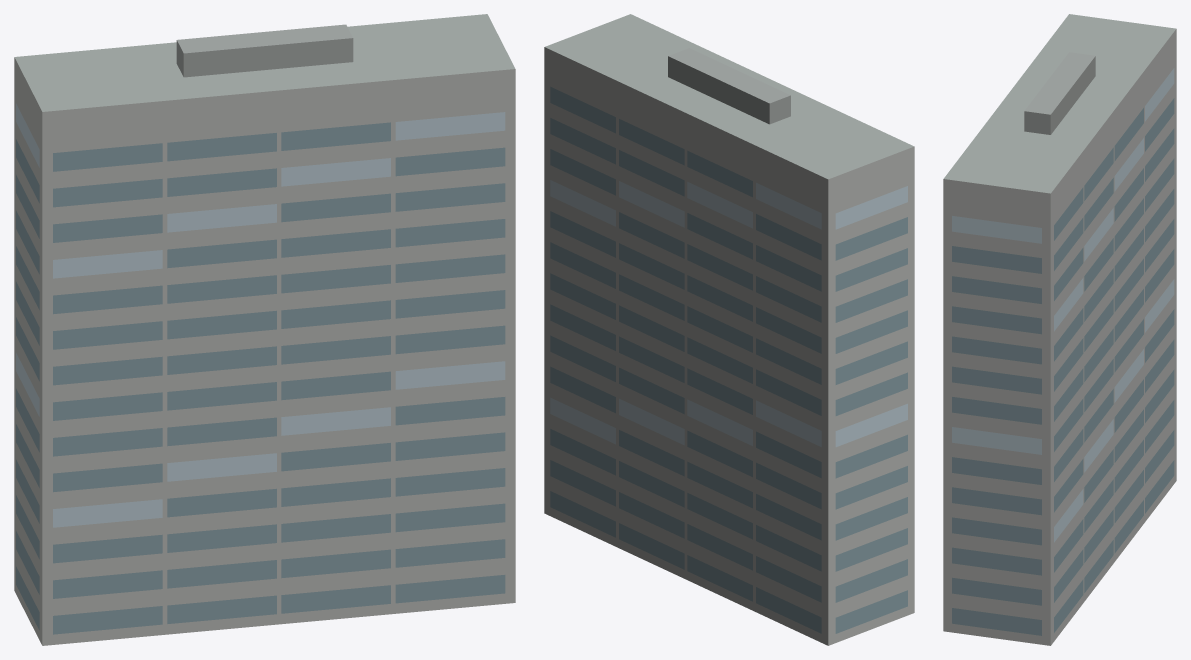
Rendered from fallback-olympic-park-foreon-413.glb.
3 views of the same model, side by side, from view 1: azimuth 30°, elevation 25°; view 2: azimuth 150°, elevation 25°; view 3: azimuth 270°, elevation 25° (orthographic). The views are drawn at different scales.
Parts seen in each view (by area): view 1: fallback-olympic-park-foreon-413; view 2: fallback-olympic-park-foreon-413; view 3: fallback-olympic-park-foreon-413.
Boxes of the visible parts, box(x1,y1,x2,y2) form: fallback-olympic-park-foreon-413: box(14, 14, 515, 645); fallback-olympic-park-foreon-413: box(544, 14, 914, 645); fallback-olympic-park-foreon-413: box(943, 14, 1176, 645).
Bounding box in the file's own units: 38.94 × 47.81 × 21.36.
